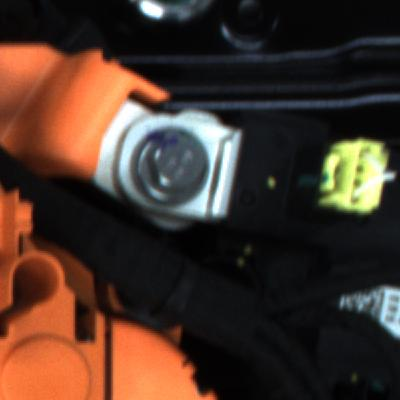nut_b: (126, 117, 223, 213)
